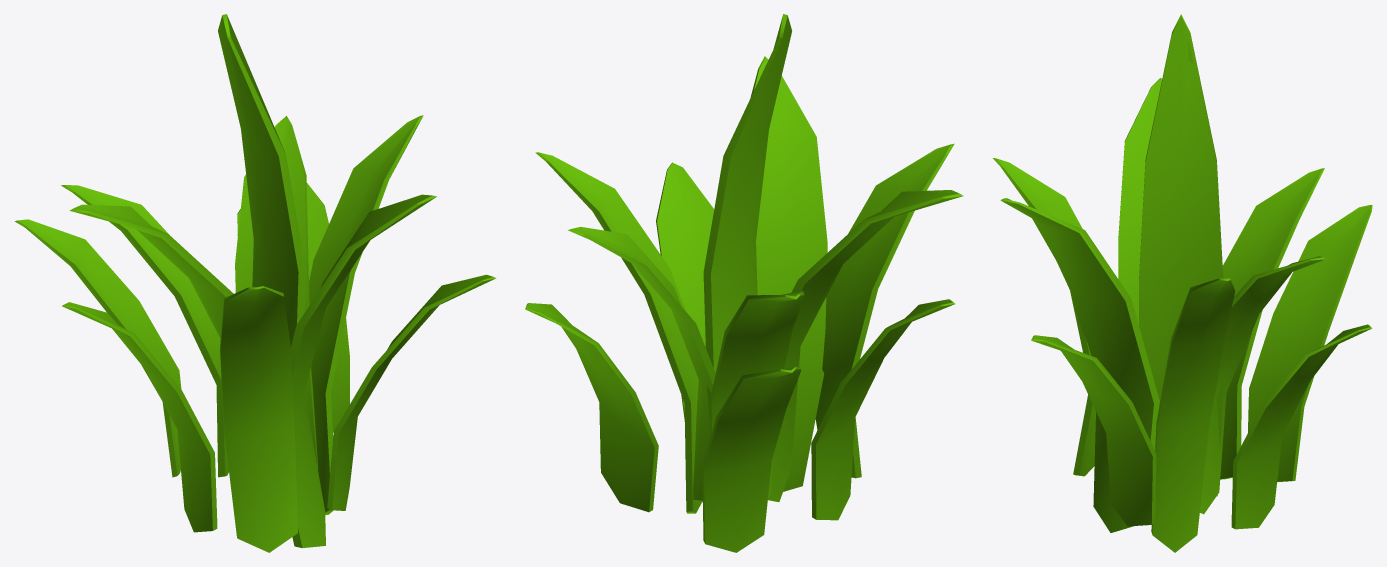
File: PASTO.fbx
The picture shows the model from 3 angles, left to right: view 1: azimuth 30°, elevation 25°; view 2: azimuth 150°, elevation 25°; view 3: azimuth 270°, elevation 25°; orthographic projection. The views are drawn at different scales.
Visible parts, largest first — view 1: grass2, grass1, grass7, grass, grass10, grass11, grass6, grass8, grass3, grass4, grass9; view 2: grass, grass1, grass11, grass2, grass9, grass7, grass10, grass4, grass6, grass8, grass3; view 3: grass1, grass7, grass, grass11, grass8, grass6, grass9, grass3, grass4, grass2.
Boxes of the visible parts, box(x1,y1,x2,y2) form: grass2: box(219, 286, 297, 552); grass1: box(218, 14, 305, 347); grass7: box(309, 115, 423, 515); grass: box(290, 194, 436, 548); grass10: box(62, 302, 217, 532); grass11: box(14, 219, 181, 477); grass6: box(61, 185, 228, 477); grass8: box(327, 274, 496, 510); grass3: box(235, 116, 318, 468); grass4: box(69, 204, 233, 338); grass9: box(237, 183, 349, 432); grass: box(750, 56, 827, 491); grass1: box(703, 14, 791, 423); grass11: box(702, 366, 801, 552); grass2: box(815, 143, 954, 478); grass9: box(525, 303, 658, 512); grass7: box(535, 152, 702, 513); grass10: box(811, 299, 955, 520); grass4: box(768, 190, 963, 501); grass6: box(710, 290, 804, 497); grass8: box(656, 162, 714, 421); grass3: box(568, 226, 715, 500); grass1: box(1139, 14, 1223, 496); grass7: box(1151, 278, 1235, 552); grass: box(1000, 198, 1159, 532); grass11: box(1248, 205, 1372, 482); grass8: box(1031, 335, 1156, 526); grass6: box(1220, 168, 1324, 479); grass9: box(1231, 324, 1372, 529); grass3: box(1200, 256, 1325, 514); grass4: box(1118, 78, 1161, 324); grass2: box(993, 158, 1095, 476).
Bounding box in the file's own units: 0.9139 × 1.17 × 0.8197.
